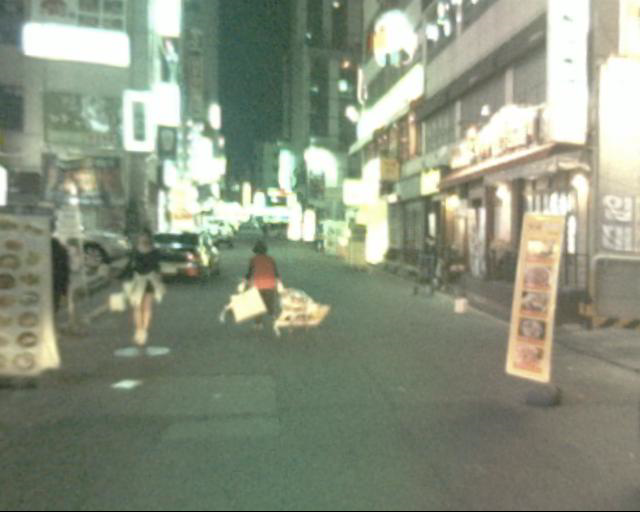person: (126, 229, 160, 342), (245, 243, 278, 329)
